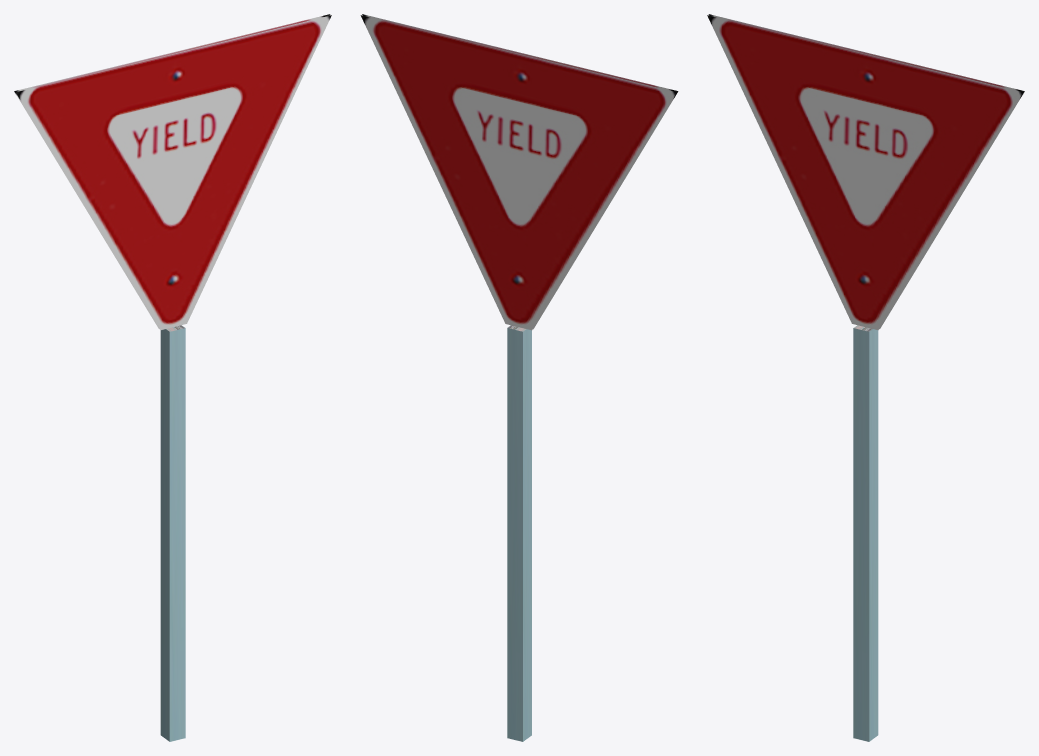
The model's file is sign04.FBX.
The picture shows the model from 3 angles, left to right: view 1: azimuth 30°, elevation 25°; view 2: azimuth 150°, elevation 25°; view 3: azimuth 330°, elevation 25°; orthographic projection.
Visible parts, largest first — view 1: sign04-yield; view 2: sign04-yield; view 3: sign04-yield.
Boxes of the visible parts, x1=… form: sign04-yield: x1=14, y1=14, x2=331, y2=741; sign04-yield: x1=360, y1=14, x2=678, y2=741; sign04-yield: x1=707, y1=14, x2=1024, y2=741.
Size of what is drawn, in the model's own units: 1.21 by 0.06 by 2.5.
